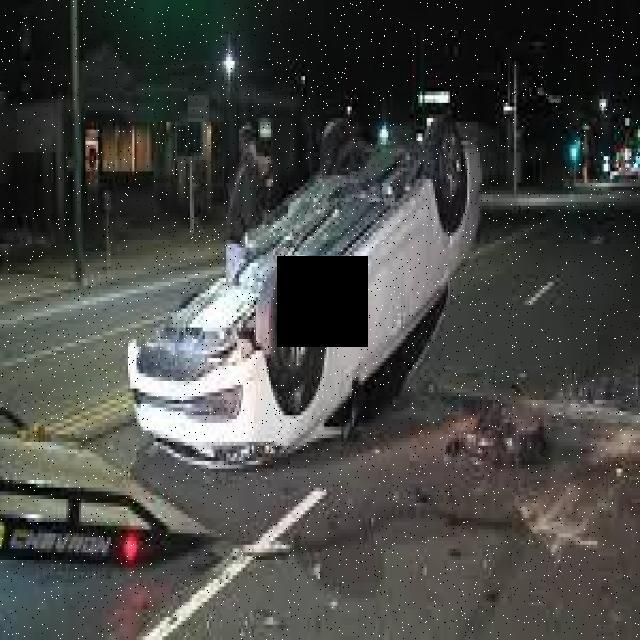severe: (120, 95, 488, 472)
